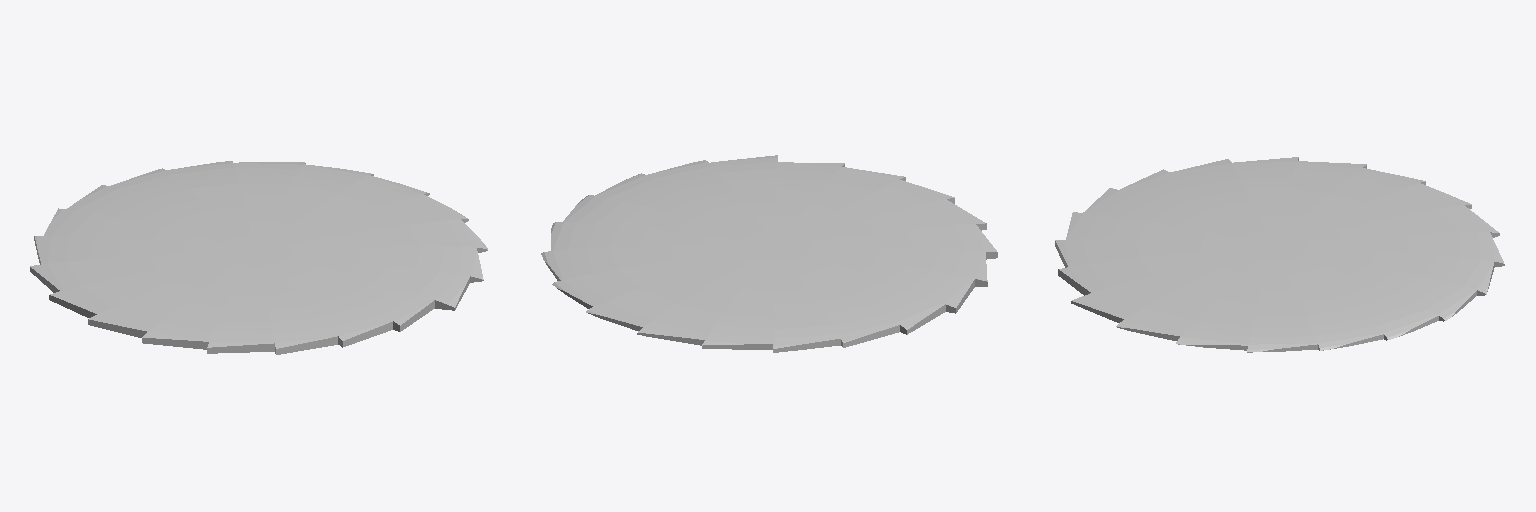
File: melee_3_corrected_uvs.obj
3 renders of one model, left to right at view 1: azimuth 30°, elevation 25°; view 2: azimuth 150°, elevation 25°; view 3: azimuth 270°, elevation 25°, orthographic.
Visible parts, largest first — view 1: melee_3:pSphere22; view 2: melee_3:pSphere22; view 3: melee_3:pSphere22.
Boxes of the visible parts, x1=… form: melee_3:pSphere22: x1=30, y1=161, x2=487, y2=354; melee_3:pSphere22: x1=541, y1=155, x2=997, y2=352; melee_3:pSphere22: x1=1055, y1=157, x2=1504, y2=352.
Size of the model in its own units: 1.94 by 0.0867 by 1.92.